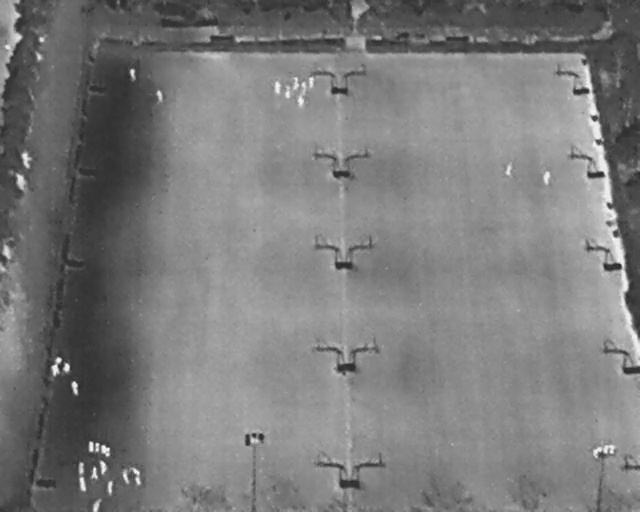Person: (90, 497, 102, 512), (129, 464, 141, 477), (504, 161, 514, 176), (273, 80, 282, 94), (122, 470, 130, 485), (51, 364, 60, 377), (292, 76, 300, 90), (284, 84, 292, 98), (543, 171, 551, 185), (79, 476, 86, 492), (106, 480, 113, 496), (301, 80, 308, 95), (72, 380, 79, 395), (91, 466, 98, 480), (99, 460, 106, 474), (129, 68, 136, 81), (156, 89, 163, 102), (63, 361, 70, 373), (308, 75, 314, 88), (79, 462, 85, 475), (298, 95, 304, 107), (55, 356, 62, 365), (135, 476, 141, 485)
